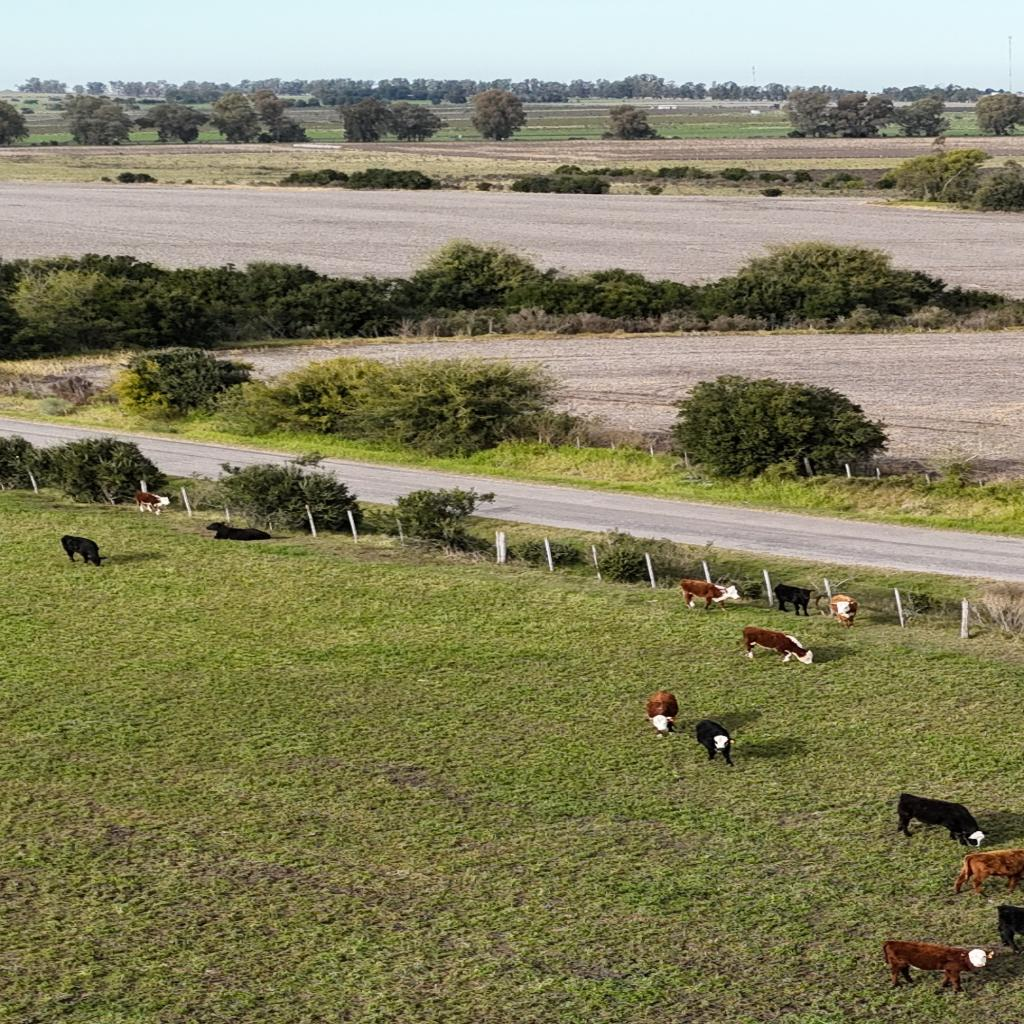cow: (881, 940, 995, 994), (896, 793, 988, 846), (953, 848, 1024, 898), (739, 626, 817, 664), (678, 578, 742, 612), (695, 720, 738, 769), (646, 690, 682, 734), (61, 534, 108, 567), (770, 583, 815, 617), (205, 523, 274, 541), (824, 594, 857, 628), (133, 492, 172, 515)
